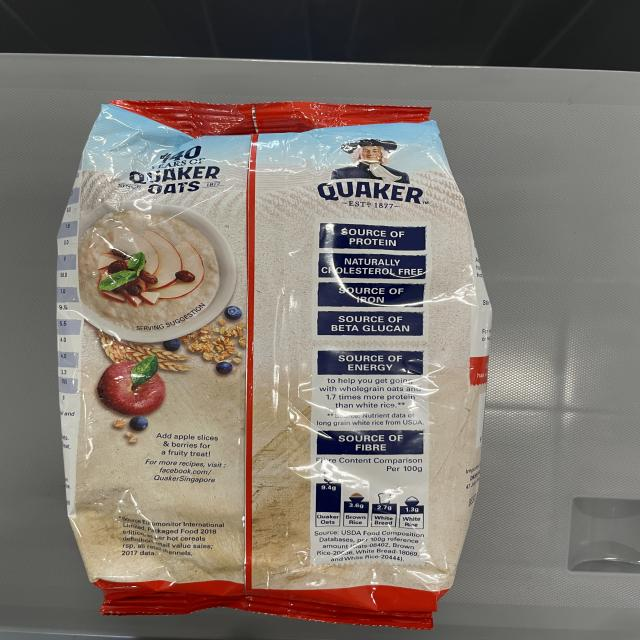object_name: (74, 117, 464, 610)
